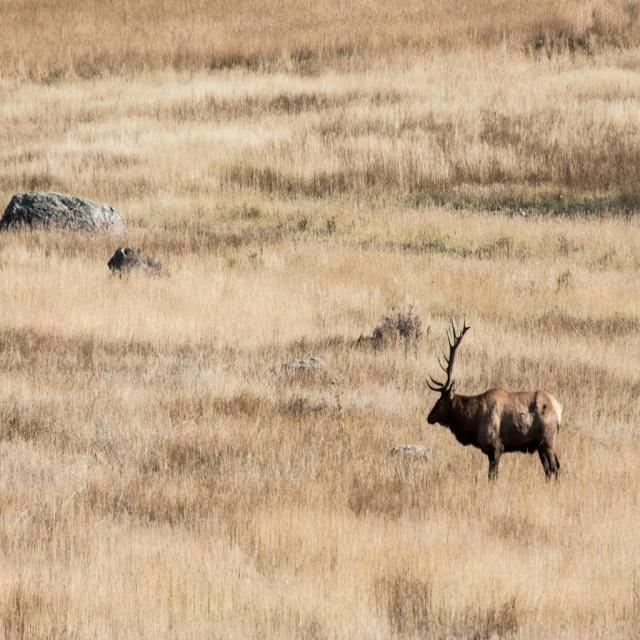Deer: (428, 315, 563, 488)
